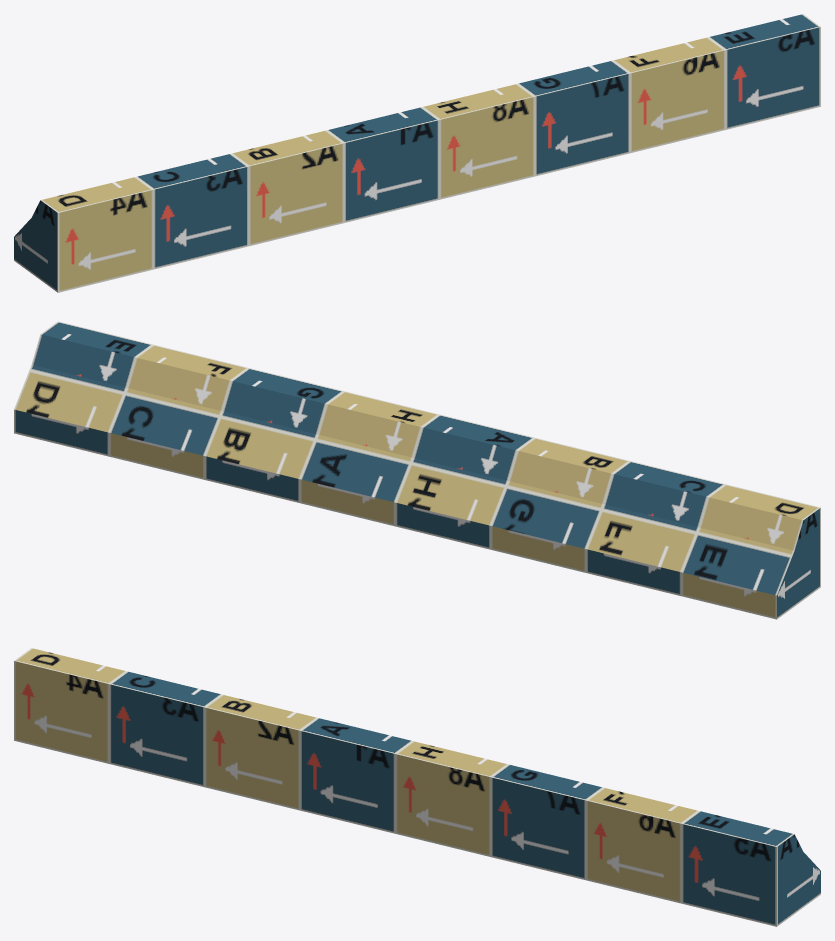
File: CORNICE_Straight.fbx
The picture shows the model from 3 angles, top to bottom: view 1: azimuth 30°, elevation 25°; view 2: azimuth 150°, elevation 25°; view 3: azimuth 330°, elevation 25°; orthographic projection.
Visible parts, largest first — view 1: CORNICE_Straight; view 2: CORNICE_Straight; view 3: CORNICE_Straight.
Boxes of the visible parts, bbox=[...] form: CORNICE_Straight: bbox=[14, 14, 820, 292]; CORNICE_Straight: bbox=[14, 321, 820, 619]; CORNICE_Straight: bbox=[14, 648, 820, 926].
Bounding box in the file's own units: 200 × 20 × 20.
Materials: 1 (1 with a texture image).
